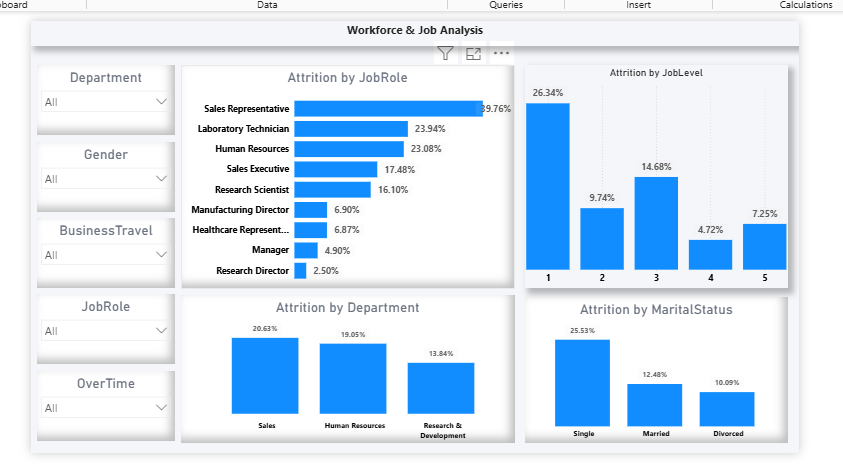

Layout of this report page (visuals, bound fields, positions):
{"tool":"powerbi","page":{"name":"Workforce & Job Analysis","canvas":[1280,720],"ordinal":1},"visuals":[{"type":"clusteredColumnChart","title":"Attrition  by MaritalStatus","fields":{"Category":["hr_attrition_cleaned.MaritalStatus"],"Y":["hr_attrition_cleaned.Attrition Rate (%)"]},"box":[823,460.7,437.7,242.6],"z":1000},{"type":"columnChart","title":"Attrition by Department","fields":{"Category":["hr_attrition_cleaned.Department"],"Y":["hr_attrition_cleaned.Attrition Rate (%)"]},"box":[250.8,457.4,555.7,245.9],"z":2000},{"type":"clusteredBarChart","title":"Attrition by JobRole","fields":{"Category":["hr_attrition_cleaned.JobRole"],"Y":["hr_attrition_cleaned.Attrition Rate (%)"]},"box":[250.8,73.8,555.7,372.1],"z":3000},{"type":"clusteredColumnChart","title":"Attrition by JobLevel","fields":{"Y":["hr_attrition_cleaned.Attrition Rate (%)"],"Category":["hr_attrition_cleaned.JobLevel"]},"box":[823,73.8,437.7,372.1],"z":4000},{"type":"slicer","title":"Department","fields":{"Values":["hr_attrition_cleaned.Department"]},"box":[9.6,73.5,230.1,115.7],"z":4001},{"type":"slicer","title":"Gender","fields":{"Values":["hr_attrition_cleaned.Gender"]},"box":[9.6,201.2,230.1,115.7],"z":4002},{"type":"slicer","title":" BusinessTravel","fields":{"Values":["hr_attrition_cleaned.BusinessTravel"]},"box":[9.6,328.9,230.1,115.7],"z":4003},{"type":"slicer","title":" JobRole","fields":{"Values":["hr_attrition_cleaned.JobRole"]},"box":[9.6,454.2,230.1,115.7],"z":4004},{"type":"slicer","title":" OverTime","fields":{"Values":["hr_attrition_cleaned.OverTime"]},"box":[9.6,583.1,230.1,115.7],"z":4005},{"type":"textbox","box":[0,0,1280,41.4],"z":4006}]}

Visuals, with their boxes on the page's 1280x720 design canvas (x1, y1, x2, y2). These are canvas units, not pixel positions in the 843x468 screenshot, which may show the page scaled, cropped or inside an application window:
"Attrition  by MaritalStatus" clusteredColumnChart: <box>823,461,1261,703</box>
"Attrition by Department" columnChart: <box>251,457,806,703</box>
"Attrition by JobRole" clusteredBarChart: <box>251,74,806,446</box>
"Attrition by JobLevel" clusteredColumnChart: <box>823,74,1261,446</box>
"Department" slicer: <box>10,74,240,189</box>
"Gender" slicer: <box>10,201,240,317</box>
" BusinessTravel" slicer: <box>10,329,240,445</box>
" JobRole" slicer: <box>10,454,240,570</box>
" OverTime" slicer: <box>10,583,240,699</box>
textbox: <box>0,0,1280,41</box>
